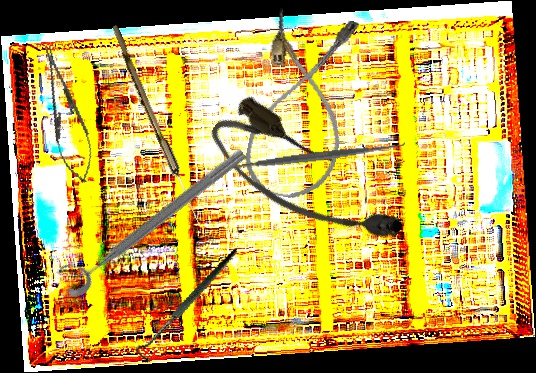Cannula: (198, 89, 413, 273), (239, 5, 365, 206)
Fixation Ring: (51, 133, 252, 301)
Hook Surgical: (114, 247, 264, 366)
Needle Holder: (31, 41, 102, 188)
Spatula Surgical: (216, 135, 407, 180)
Surgical Spoon: (107, 24, 205, 227)
